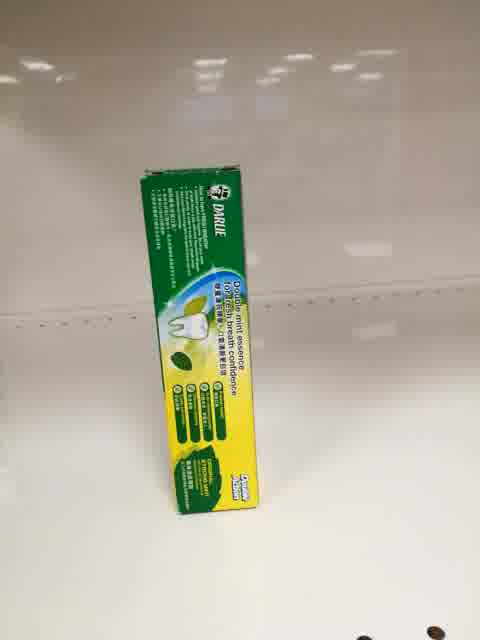toothpaste: (138, 165, 263, 515)
